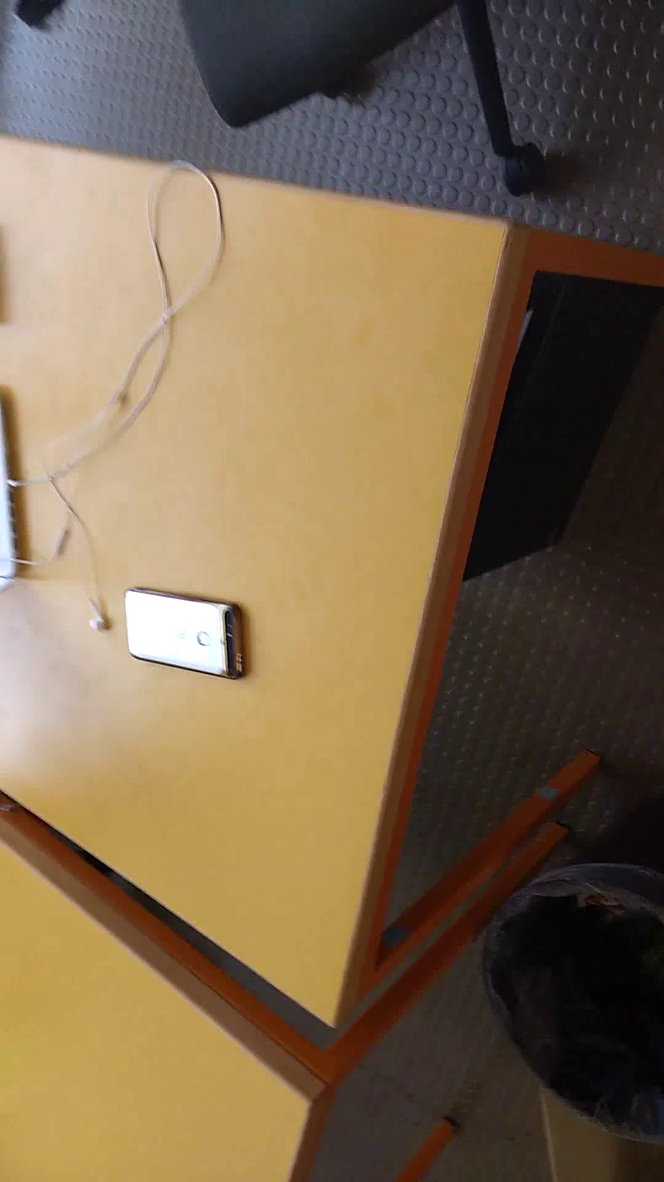phone: (114, 579, 263, 696)
